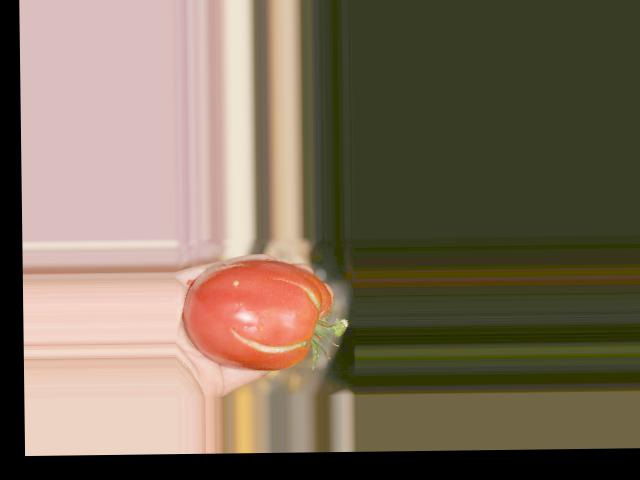tomato: (182, 257, 333, 369)
